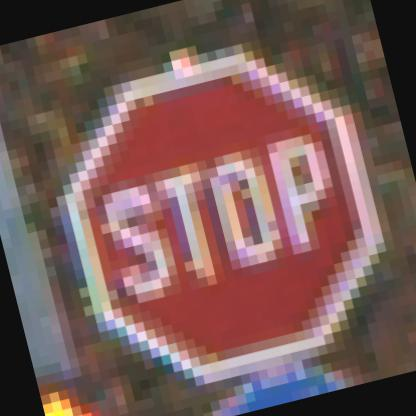stop: (12, 7, 415, 415)
